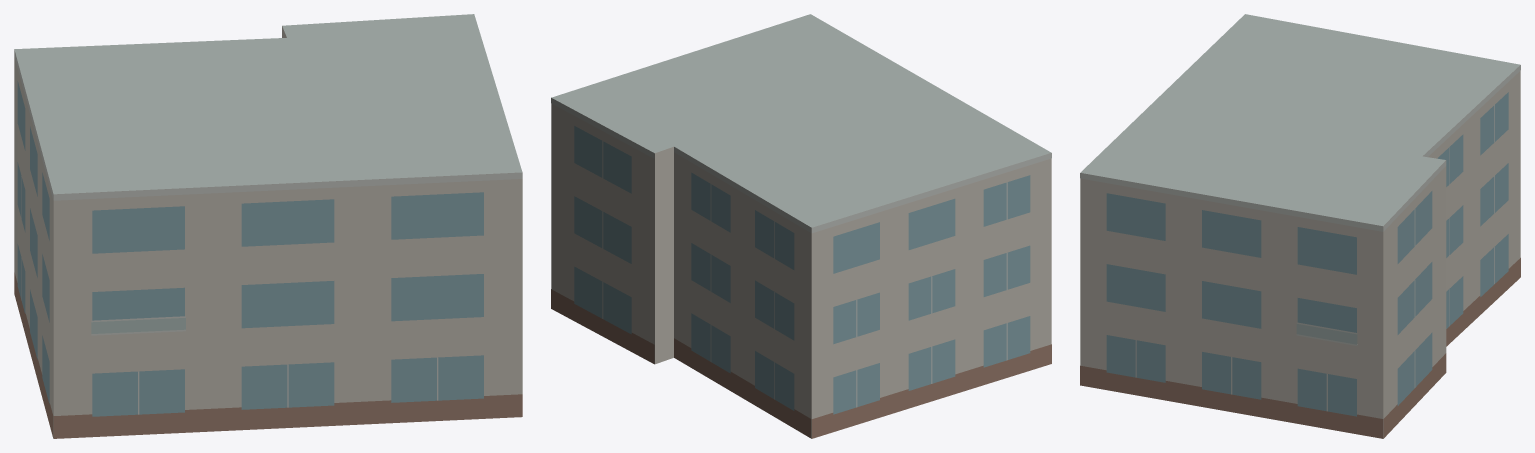
File: survey-upis-32604248.glb
3 renders of one model, left to right at view 1: azimuth 30°, elevation 25°; view 2: azimuth 150°, elevation 25°; view 3: azimuth 270°, elevation 25°, orthographic. The views are drawn at different scales.
Parts seen in each view (by area): view 1: survey-upis-32604248.tmp; view 2: survey-upis-32604248.tmp; view 3: survey-upis-32604248.tmp.
Part boxes in pixels (x1=…): survey-upis-32604248.tmp: x1=14, y1=14, x2=522, y2=438; survey-upis-32604248.tmp: x1=551, y1=14, x2=1051, y2=438; survey-upis-32604248.tmp: x1=1080, y1=14, x2=1520, y2=438.
Bounding box in the file's own units: 19.6 × 9.15 × 17.19.
